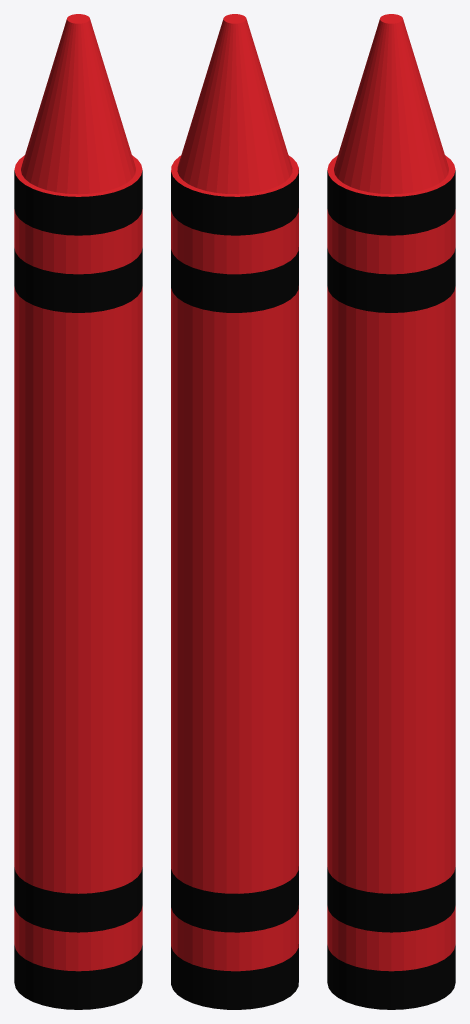
File: CrayonVar2.fbx
3 renders of one model, left to right at view 1: azimuth 90°, elevation 25°; view 2: azimuth 150°, elevation 25°; view 3: azimuth 270°, elevation 25°, orthographic.
Visible parts, largest first — view 1: CrayonR; view 2: CrayonR; view 3: CrayonR.
Part boxes in pixels (x1,y1,x2,y2): CrayonR: (14, 14, 142, 1009); CrayonR: (171, 14, 298, 1009); CrayonR: (327, 14, 455, 1009).
Bounding box in the file's own units: 200 × 200 × 1660.
